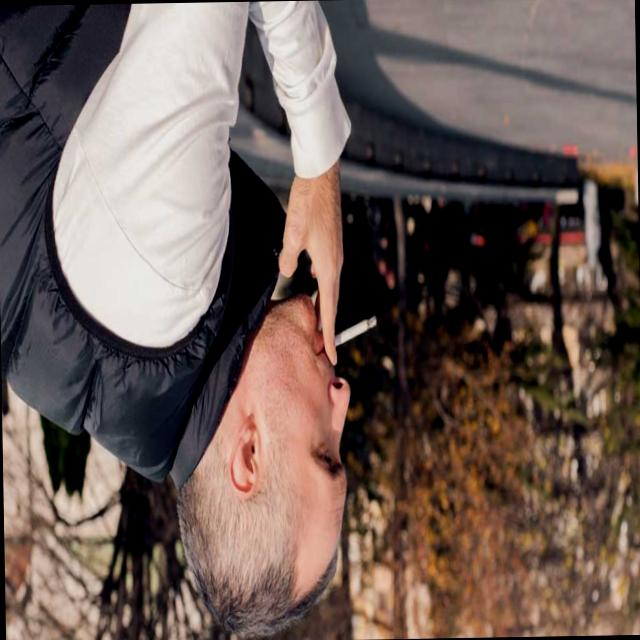smoke: (317, 308, 396, 366)
